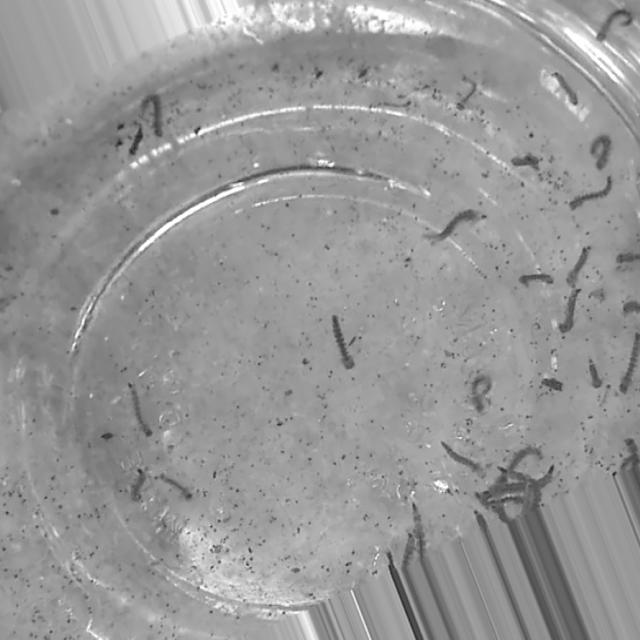larvas: (490, 462, 556, 500), (496, 466, 543, 512), (426, 208, 485, 242), (570, 176, 610, 212), (129, 379, 151, 435), (596, 11, 633, 43), (620, 332, 638, 394), (333, 314, 353, 369), (560, 287, 582, 332), (441, 445, 478, 471), (160, 473, 192, 501), (566, 246, 589, 284), (142, 98, 164, 137), (471, 374, 492, 412), (555, 73, 578, 106), (411, 502, 426, 552), (510, 445, 540, 469), (590, 136, 612, 168), (490, 505, 530, 522), (617, 438, 638, 466), (458, 80, 477, 110), (587, 356, 603, 391), (522, 271, 553, 289), (375, 98, 414, 108), (509, 155, 540, 167), (132, 474, 146, 499), (615, 251, 638, 266), (623, 298, 640, 314), (404, 532, 412, 562), (474, 508, 486, 525)
